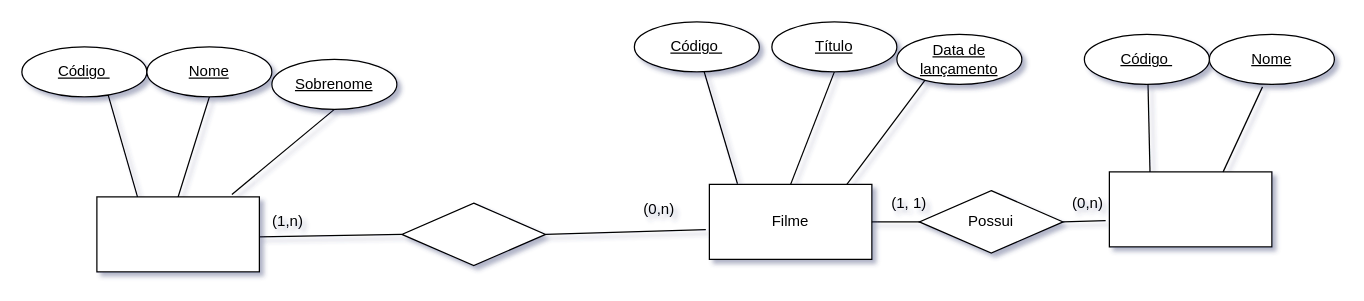
The diagram is 1364 pixels wide and 301 high, and some of its shapes have lost their labels. Here are the shapes that lost their labels. From the top down, the centre of each, then its label:
pixel 1190 209: Idioma
pixel 177 234: Ator
pixel 473 234: Atua
